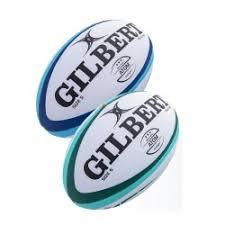ballon_rugby: (33, 17, 153, 142), (63, 90, 180, 210)
